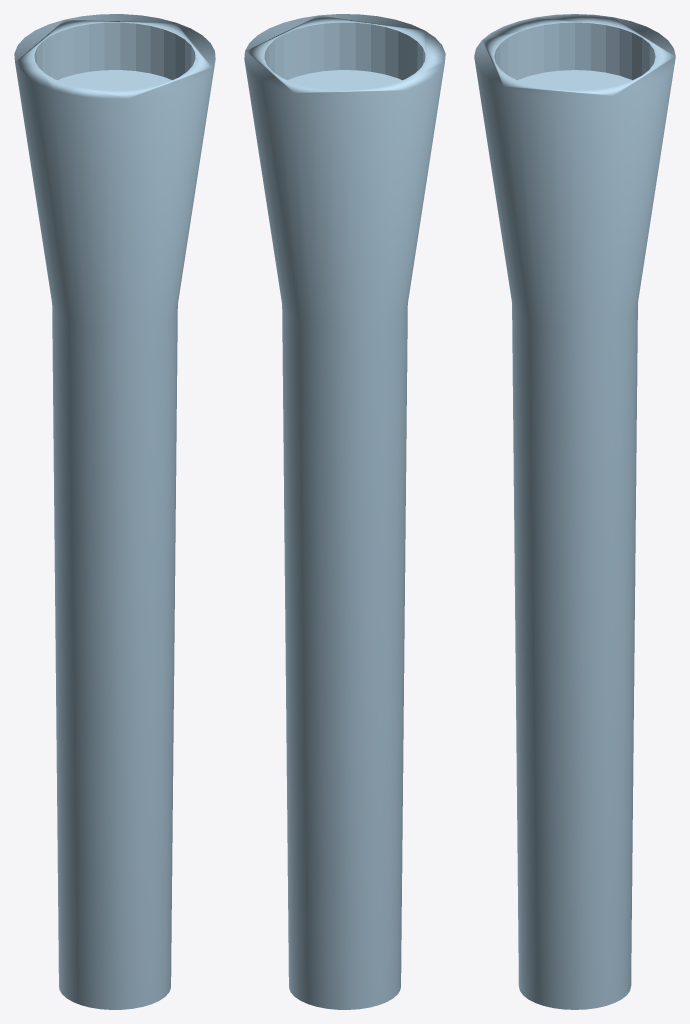
Rendered from golft.fbx.
3 views of the same model, side by side, from view 1: azimuth 30°, elevation 25°; view 2: azimuth 150°, elevation 25°; view 3: azimuth 270°, elevation 25° (orthographic).
Visible parts, largest first — view 1: Cylinder; view 2: Cylinder; view 3: Cylinder.
Boxes of the visible parts, x1,y1,x2,y2 form: Cylinder: (14,14,215,1009); Cylinder: (244,14,445,1009); Cylinder: (474,14,675,1009).
Bounding box in the file's own units: 33.33 × 169 × 33.33.
